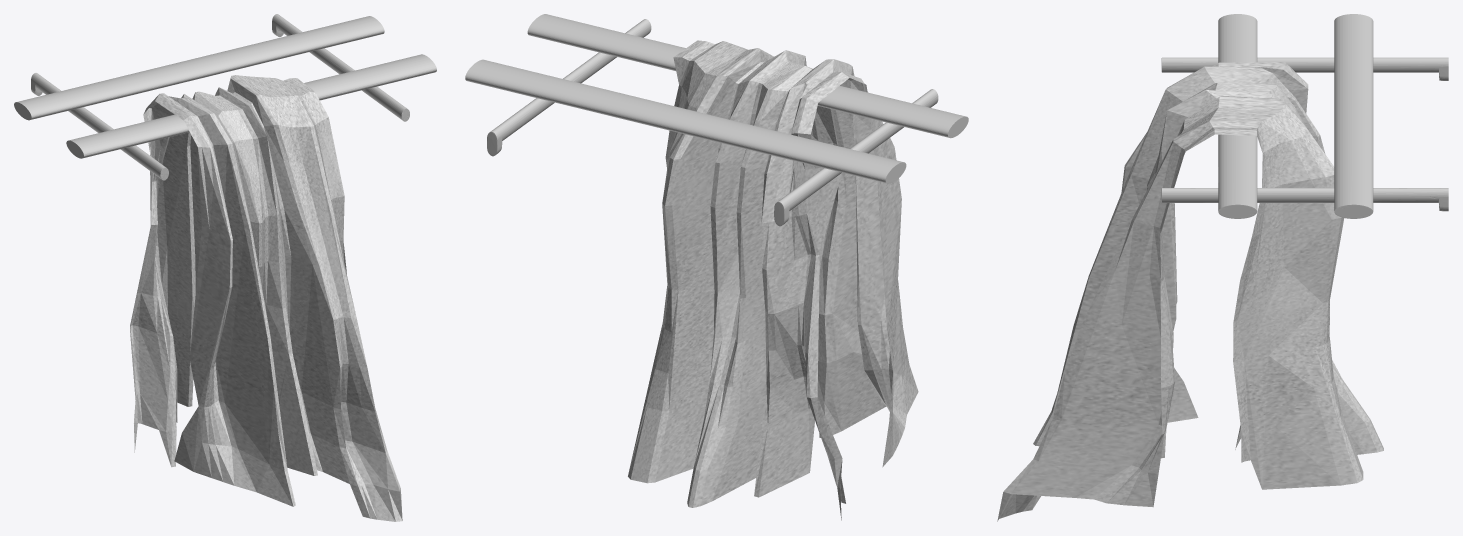
The model's file is sh-scopia-com-bath3.glb.
The picture shows the model from 3 angles, left to right: view 1: azimuth 30°, elevation 25°; view 2: azimuth 150°, elevation 25°; view 3: azimuth 270°, elevation 25°; orthographic projection. The views are drawn at different scales.
Parts seen in each view (by area): view 1: A_toalla_blanc_Mesh, A_estanteria_metal_Cylinder.003; view 2: A_toalla_blanc_Mesh, A_estanteria_metal_Cylinder.003; view 3: A_toalla_blanc_Mesh, A_estanteria_metal_Cylinder.003.
Boxes of the visible parts, box(x1,y1,x2,y2) form: A_toalla_blanc_Mesh: box(130, 75, 402, 521); A_estanteria_metal_Cylinder.003: box(14, 14, 436, 180); A_toalla_blanc_Mesh: box(628, 40, 918, 520); A_estanteria_metal_Cylinder.003: box(465, 14, 968, 226); A_toalla_blanc_Mesh: box(997, 62, 1383, 521); A_estanteria_metal_Cylinder.003: box(1161, 14, 1448, 218).
Bounding box in the file's own units: 1 × 0.9864 × 1.
Materials: 2 (1 with a texture image).
